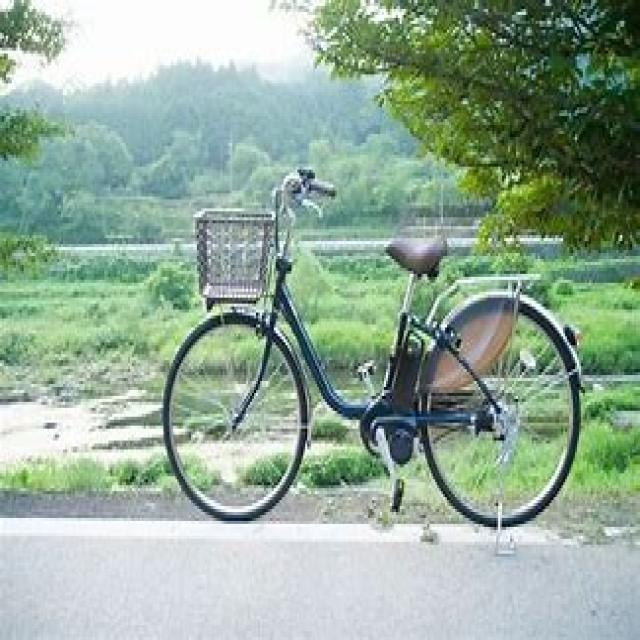basket: (190, 198, 274, 306)
battery: (387, 329, 425, 412)
